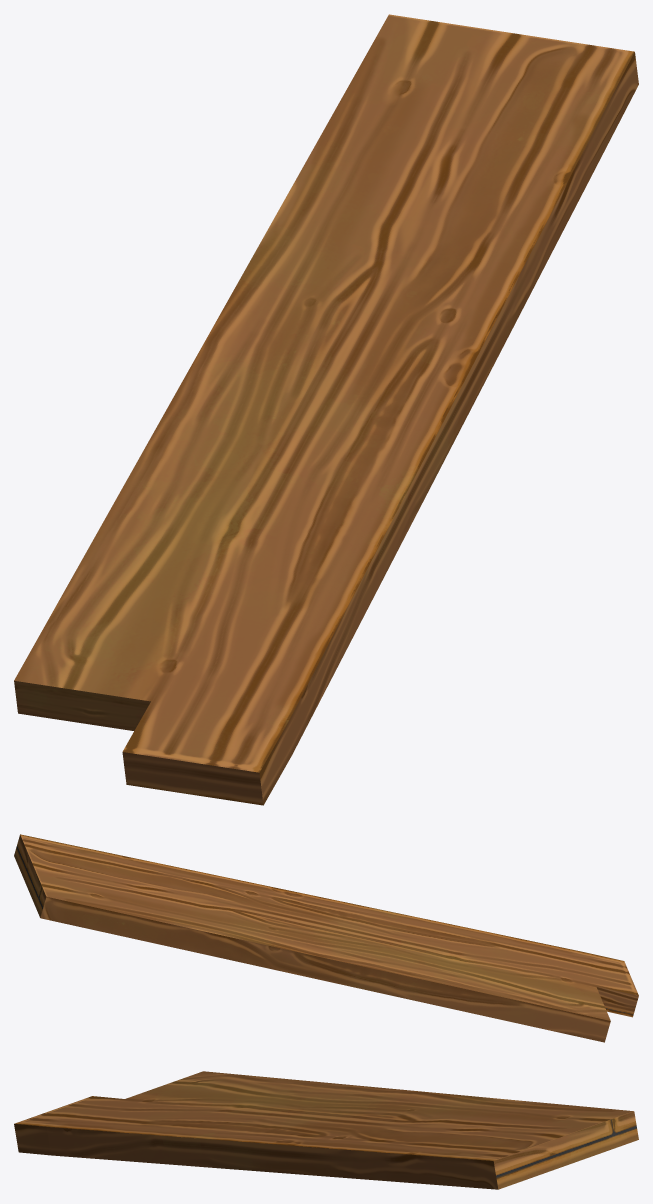
The picture shows the model from 3 angles, top to bottom: view 1: azimuth 30°, elevation 25°; view 2: azimuth 150°, elevation 25°; view 3: azimuth 270°, elevation 25°; orthographic projection. The views are drawn at different scales.
Visible parts, largest first — view 1: Cube.658; view 2: Cube.658; view 3: Cube.658.
Part boxes in pixels (bbox=[...]): Cube.658: bbox=[14, 14, 638, 805]; Cube.658: bbox=[14, 834, 638, 1042]; Cube.658: bbox=[14, 1071, 638, 1189].
Bounding box in the file's own units: 300 × 115 × 277.
1 material, 1 textured.
